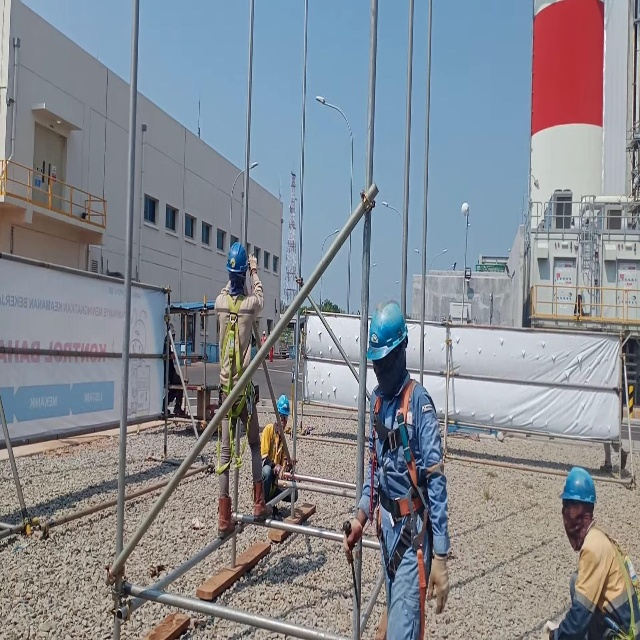Arnes_seguridad: (370, 385, 432, 640), (216, 291, 252, 470)
